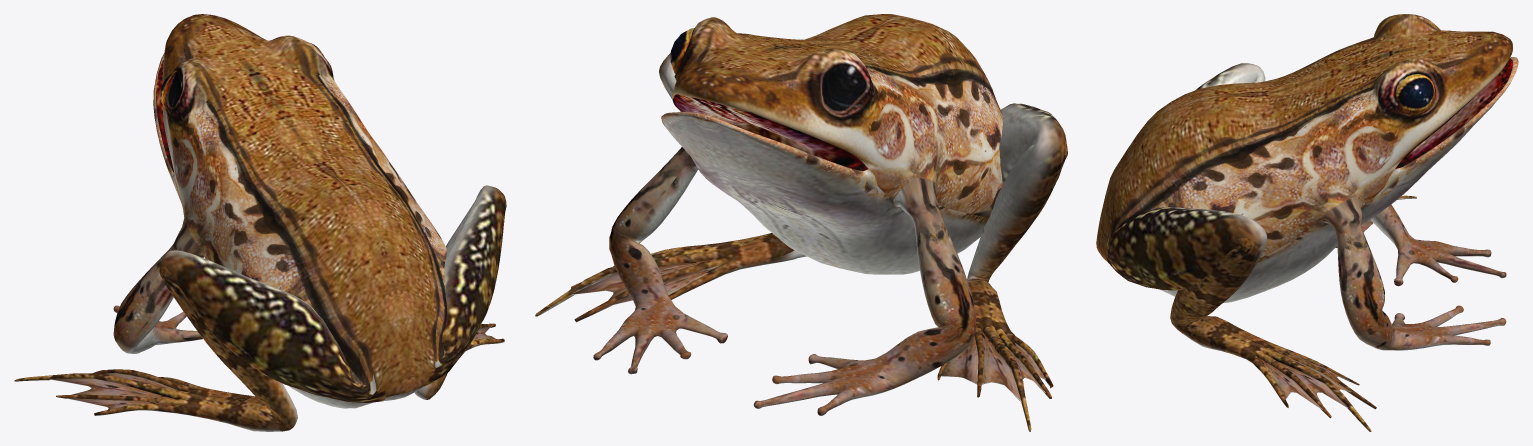
3 views of the same model, side by side, from view 1: azimuth 30°, elevation 25°; view 2: azimuth 150°, elevation 25°; view 3: azimuth 270°, elevation 25° (orthographic). The views are drawn at different scales.
Visible parts, largest first — view 1: Object001Mesh; view 2: Object001Mesh, Sphere001Mesh; view 3: Object001Mesh, Sphere001Mesh.
Part boxes in pixels (left/top/right/bottom): Object001Mesh: left=14, top=14, right=506, bottom=431; Object001Mesh: left=535, top=14, right=1067, bottom=431; Sphere001Mesh: left=670, top=28, right=694, bottom=73; Object001Mesh: left=1096, top=14, right=1518, bottom=431; Sphere001Mesh: left=1395, top=74, right=1436, bottom=115.
Bounding box in the file's own units: 0.161 × 0.1061 × 0.1384.
Materials: 3 (3 with a texture image).
